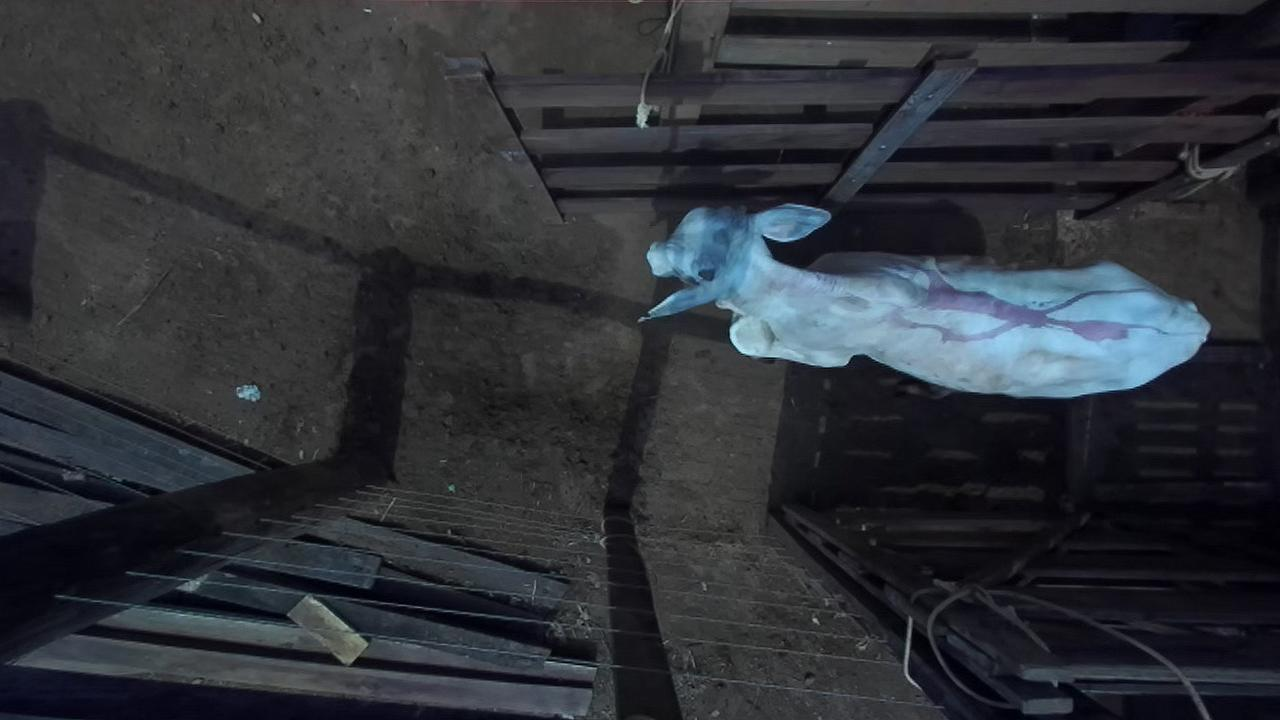cattle: (636, 200, 1211, 399)
